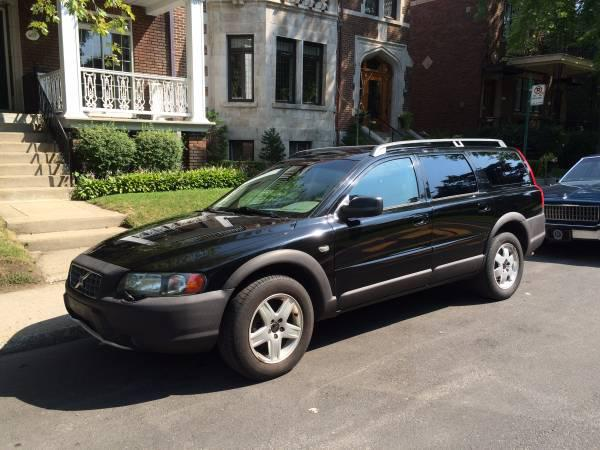volvo: (46, 119, 547, 382)
